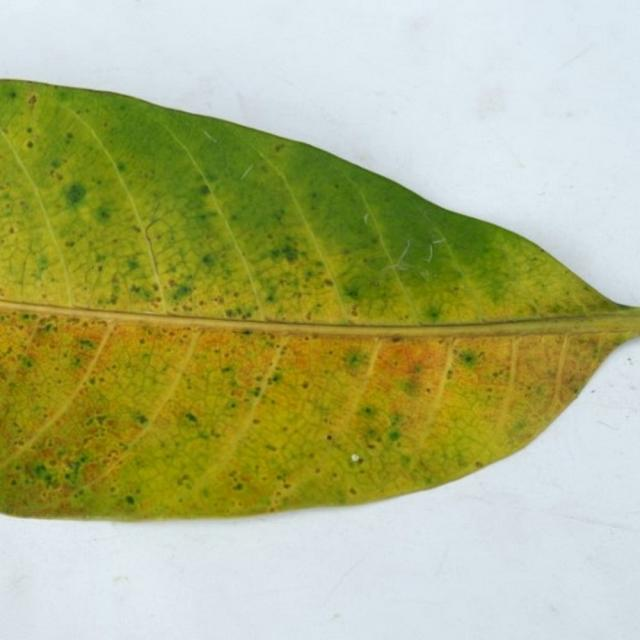Mango: (0, 80, 639, 519)
Powdery_Mildew: (239, 137, 318, 208), (547, 334, 612, 418), (13, 443, 88, 508), (376, 222, 449, 280), (339, 261, 413, 314), (471, 259, 530, 306), (219, 473, 271, 509), (80, 453, 119, 484), (266, 242, 303, 266), (140, 199, 165, 229), (389, 239, 412, 270), (143, 215, 169, 241), (452, 366, 480, 389), (85, 413, 117, 433), (66, 182, 88, 211), (66, 457, 88, 480), (92, 204, 115, 224), (123, 256, 144, 276), (171, 284, 192, 301), (34, 464, 53, 482), (402, 378, 422, 395), (35, 254, 50, 275), (19, 258, 29, 289), (425, 304, 444, 320), (344, 284, 363, 299), (18, 355, 35, 371), (346, 352, 364, 367), (201, 253, 216, 267), (240, 165, 254, 179), (77, 339, 94, 350), (387, 429, 401, 442), (270, 372, 284, 384), (202, 130, 216, 142), (198, 184, 211, 196), (5, 88, 18, 100), (178, 475, 191, 487), (184, 412, 198, 423), (461, 353, 475, 364), (49, 158, 62, 169), (95, 415, 108, 426), (224, 308, 238, 318), (431, 237, 446, 246), (135, 414, 148, 424), (238, 309, 250, 319), (27, 94, 37, 105), (350, 305, 360, 316), (362, 406, 374, 415), (125, 495, 135, 505), (251, 387, 261, 397), (274, 143, 285, 152), (391, 336, 403, 344), (323, 278, 333, 287), (265, 444, 277, 451), (351, 453, 360, 462), (65, 240, 75, 248), (233, 482, 243, 490), (241, 329, 252, 336), (132, 224, 141, 232), (475, 461, 484, 469), (305, 311, 313, 320), (363, 213, 370, 223), (349, 487, 357, 495), (169, 278, 177, 286), (26, 141, 34, 148), (302, 381, 309, 389), (152, 283, 159, 291), (283, 481, 291, 488), (253, 418, 260, 425), (10, 479, 17, 486), (26, 127, 33, 133), (8, 227, 14, 234), (372, 280, 379, 286), (326, 434, 332, 440)
